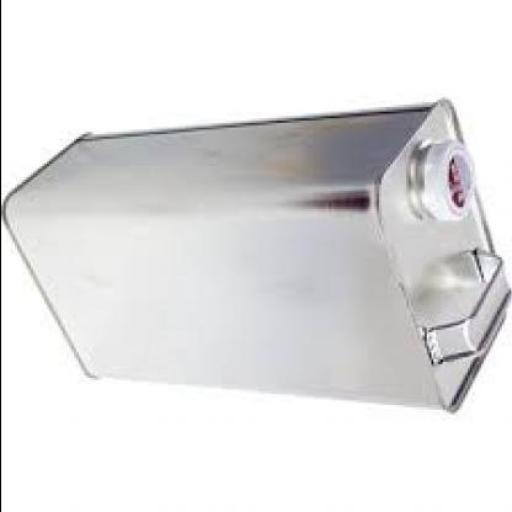metal: (6, 100, 511, 421)
